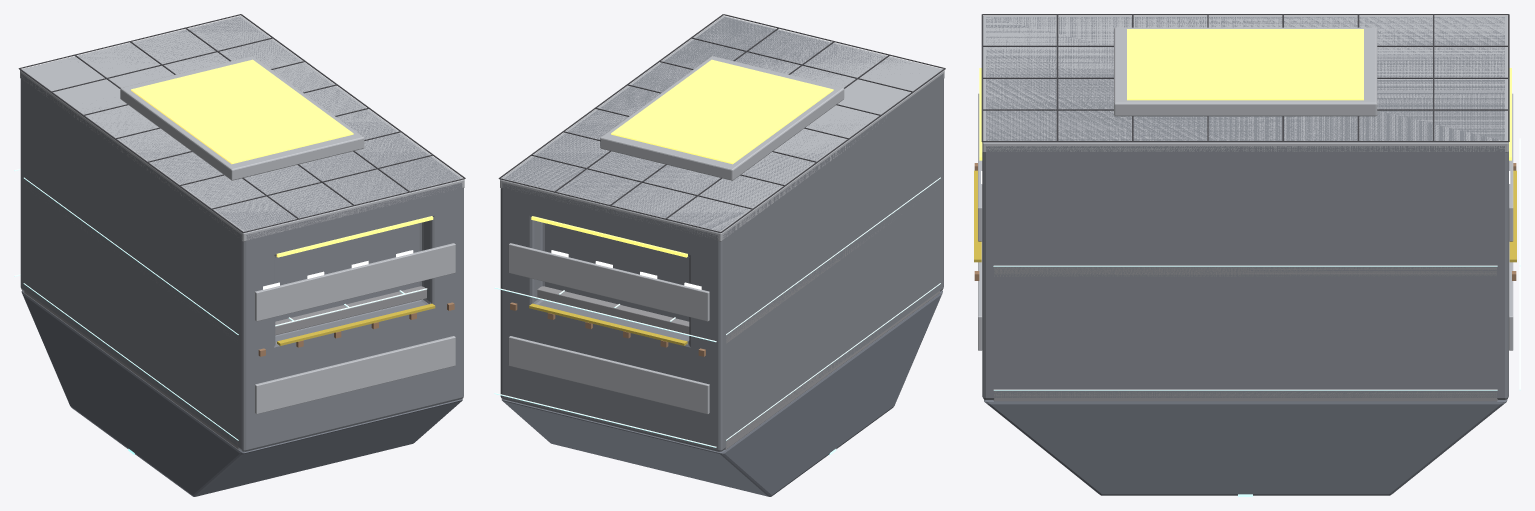
The model's file is ship_hangar_7x4.glb.
3 renders of one model, left to right at view 1: azimuth 30°, elevation 25°; view 2: azimuth 150°, elevation 25°; view 3: azimuth 270°, elevation 25°, orthographic. The views are drawn at different scales.
Parts seen in each view (by area): view 1: ext_hull, ext_deck_top, ext_hull_belly, ext_armor_plates, ext_launch_glow, ext_launch_frame, ext_deck_grid, int_deck_upper, ext_door_hazard0, int_deck_lower, ext_door_glow0, int_grid_33; view 2: ext_hull, ext_deck_top, ext_hull_belly, ext_armor_plates, ext_launch_glow, ext_launch_frame, ext_deck_grid, int_deck_upper, int_deck_lower, ext_door_hazard2, int_grid_33, int_grid_14 (+1 smaller); view 3: ext_hull, ext_deck_top, ext_hull_belly, ext_launch_glow, ext_launch_frame, ext_deck_grid, int_deck_lower, int_deck_upper, ext_armor_plates, int_grid_33, int_grid_14.
Part boxes in pixels (x1,y1,x2,y2): ext_hull: [20, 17, 463, 451]; ext_deck_top: [20, 16, 464, 241]; ext_hull_belly: [21, 290, 462, 496]; ext_armor_plates: [254, 243, 455, 414]; ext_launch_glow: [131, 59, 353, 164]; ext_launch_frame: [120, 56, 364, 180]; ext_deck_grid: [18, 14, 465, 232]; int_deck_upper: [26, 184, 426, 340]; ext_door_hazard0: [277, 303, 435, 345]; int_deck_lower: [24, 289, 239, 449]; ext_door_glow0: [276, 216, 433, 257]; int_grid_33: [14, 168, 427, 334]; ext_hull: [500, 17, 943, 451]; ext_deck_top: [500, 16, 944, 241]; ext_hull_belly: [501, 290, 942, 496]; ext_armor_plates: [508, 243, 709, 414]; ext_launch_glow: [611, 59, 833, 164]; ext_launch_frame: [600, 56, 844, 180]; ext_deck_grid: [498, 14, 945, 232]; int_deck_upper: [537, 200, 919, 343]; int_deck_lower: [725, 291, 939, 449]; ext_door_hazard2: [529, 303, 687, 345]; int_grid_33: [494, 177, 940, 342]; int_grid_14: [494, 283, 940, 447]; ext_hull: [982, 17, 1508, 399]; ext_deck_top: [982, 16, 1508, 152]; ext_hull_belly: [984, 399, 1507, 495]; ext_launch_glow: [1127, 29, 1363, 100]; ext_launch_frame: [1114, 27, 1377, 116]; ext_deck_grid: [981, 14, 1509, 142]; int_deck_lower: [993, 391, 1497, 401]; int_deck_upper: [994, 267, 1496, 276]; ext_armor_plates: [978, 93, 1513, 350]; int_grid_33: [993, 138, 1520, 266]; int_grid_14: [993, 266, 1520, 390].
Bounding box in the file's own units: 4.02 × 5.42 × 7.27.
